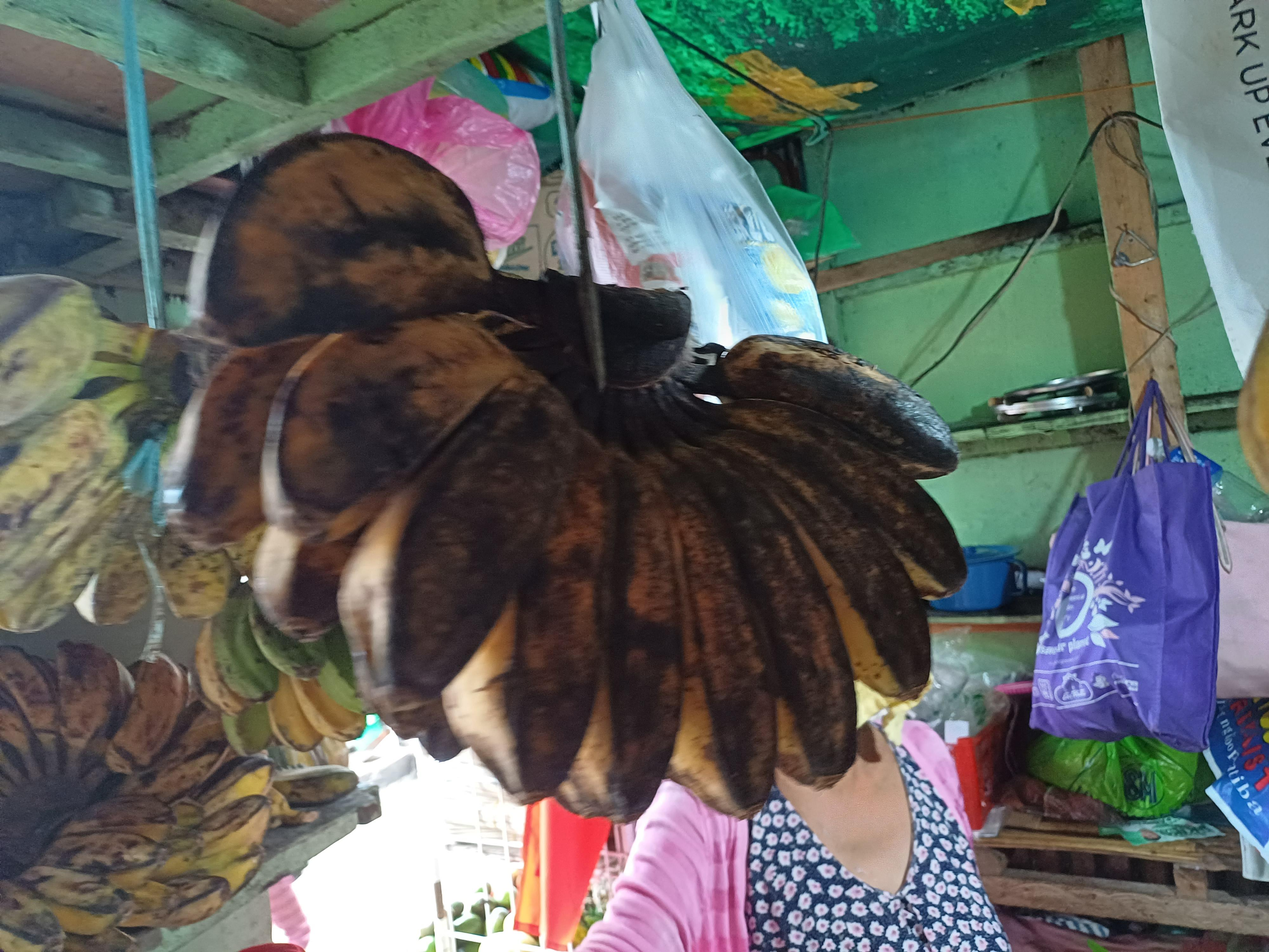overripe: (161, 133, 966, 817)
ripe: (0, 699, 273, 952), (0, 641, 190, 774)
underripe: (0, 274, 268, 633), (196, 583, 376, 753)
